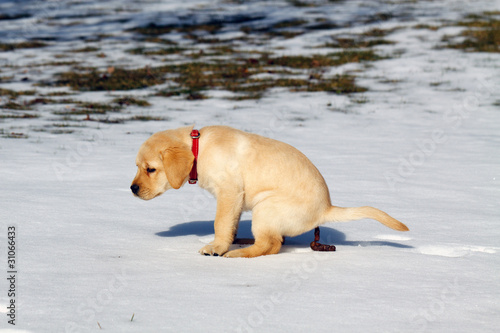dog_pooping: (127, 121, 415, 261)
